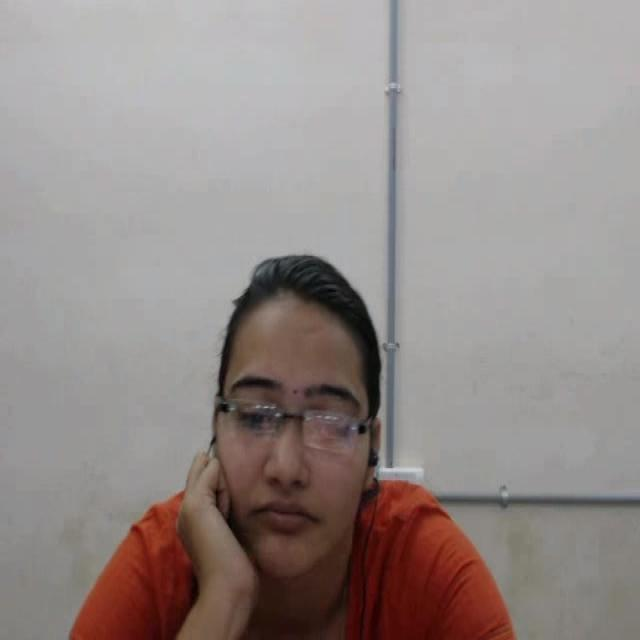Bored: (137, 224, 418, 640)
